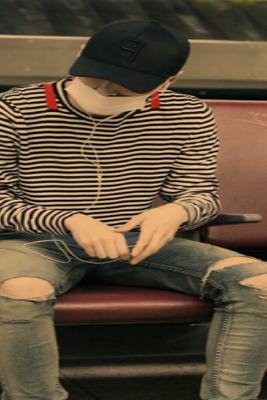mask_weared_incorrect: (61, 77, 159, 117)
